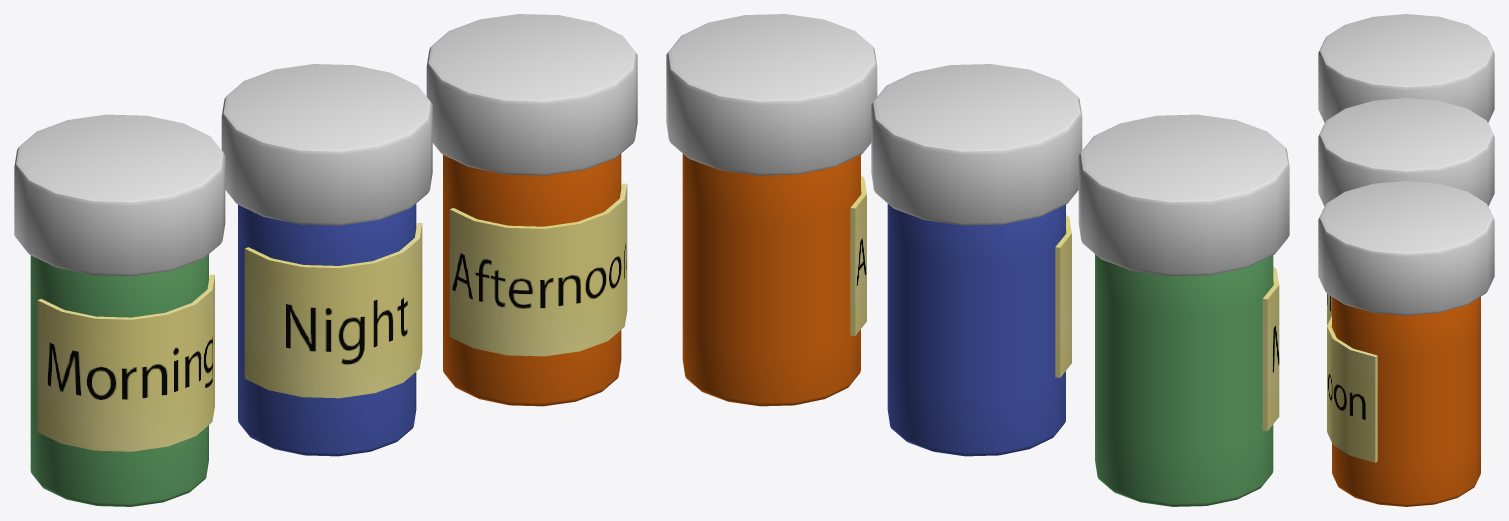
Rendered from Pills.fbx.
The picture shows the model from 3 angles, left to right: view 1: azimuth 30°, elevation 25°; view 2: azimuth 150°, elevation 25°; view 3: azimuth 270°, elevation 25°; orthographic projection. The views are drawn at different scales.
Parts seen in each view (by area): view 1: pillsMorning, pillsNight, pillsAfternoon; view 2: pillsMorning, pillsNight, pillsAfternoon; view 3: pillsAfternoon, pillsMorning, pillsNight.
Part boxes in pixels (x1,y1,x2,y2): pillsMorning: [14, 114, 225, 506]; pillsNight: [221, 64, 432, 456]; pillsAfternoon: [426, 14, 637, 406]; pillsMorning: [1078, 114, 1289, 506]; pillsNight: [871, 64, 1082, 456]; pillsAfternoon: [666, 14, 877, 406]; pillsAfternoon: [1318, 181, 1494, 506]; pillsMorning: [1318, 14, 1494, 122]; pillsNight: [1318, 98, 1494, 325].
Size of the model in its own units: 13.42 by 6.75 by 4.15.
